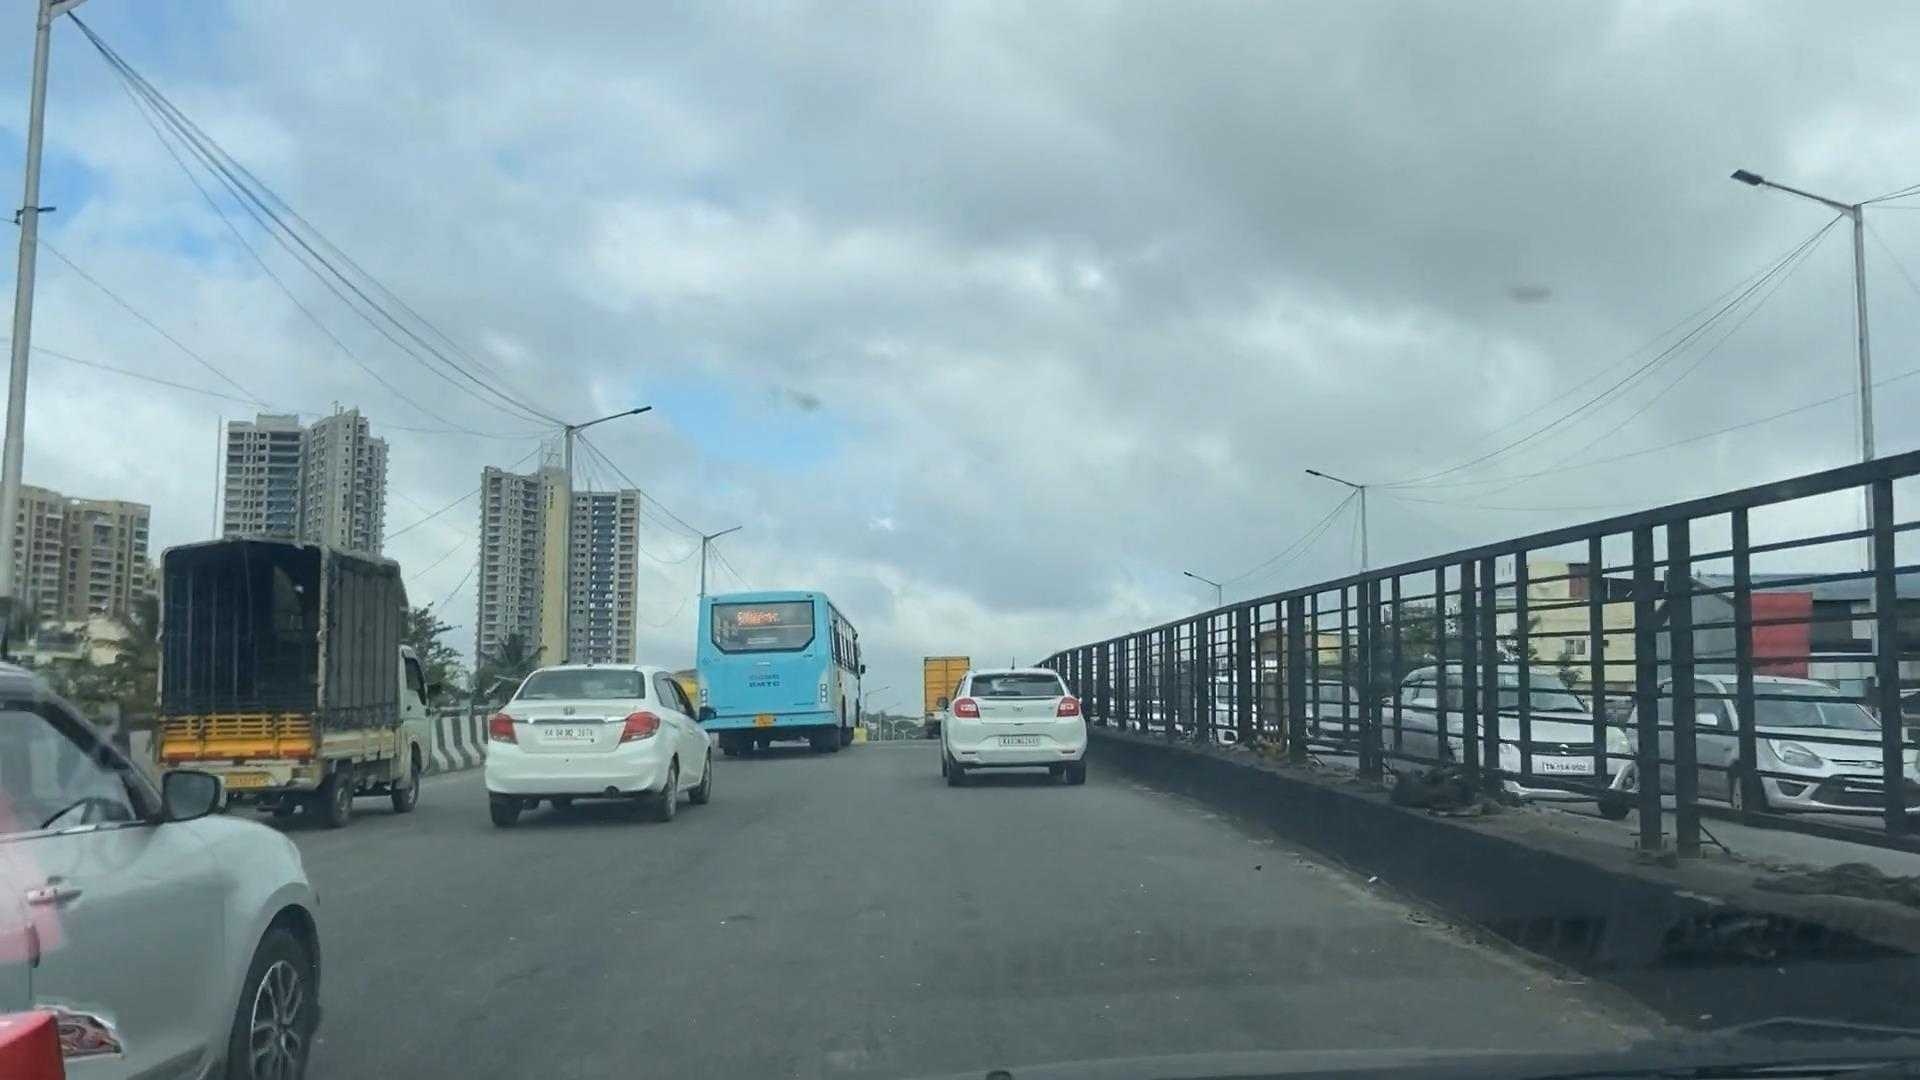HMV: (96, 492, 438, 848), (655, 500, 887, 785), (905, 613, 980, 728)
